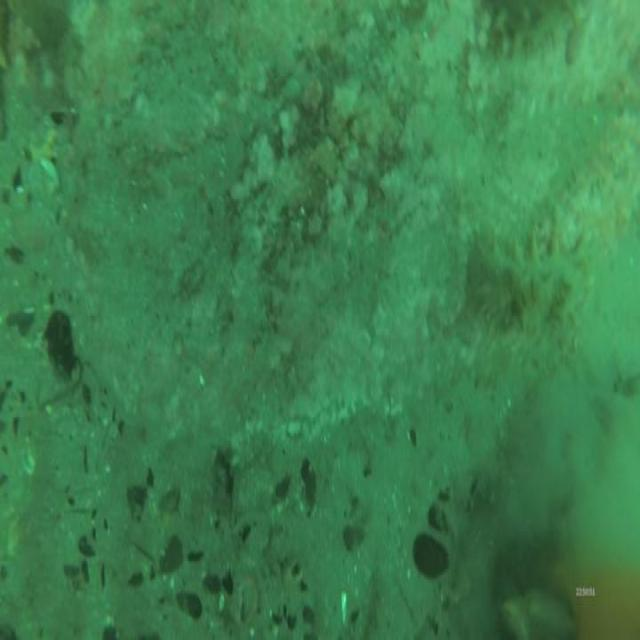holothurian: (472, 205, 596, 348), (474, 0, 588, 68)
